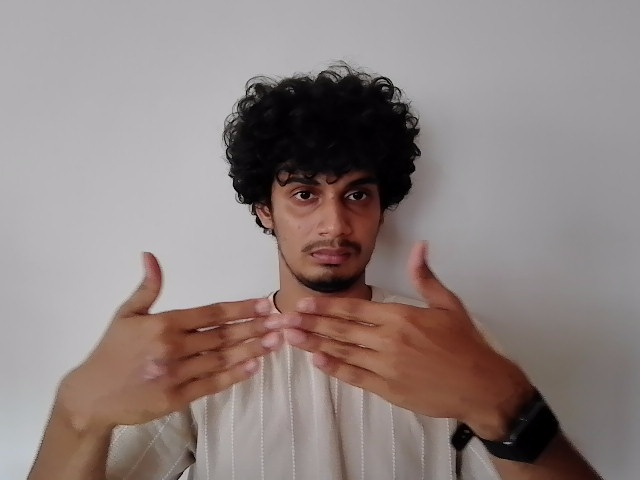family: (55, 240, 489, 436)
